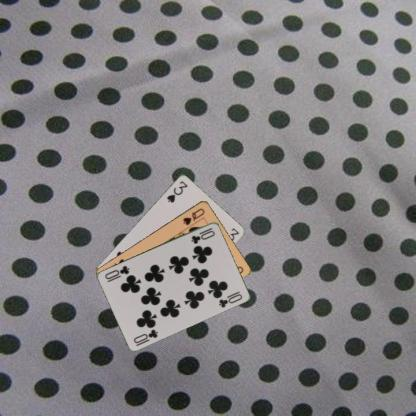10c: (188, 225, 216, 245), (131, 326, 159, 344)
3s: (164, 178, 189, 204)
Qs: (180, 205, 206, 227)
